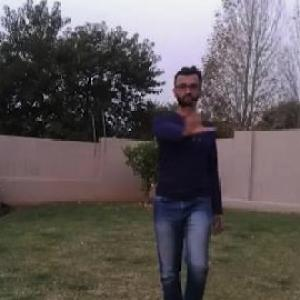follow_hand: (180, 98, 217, 136)
